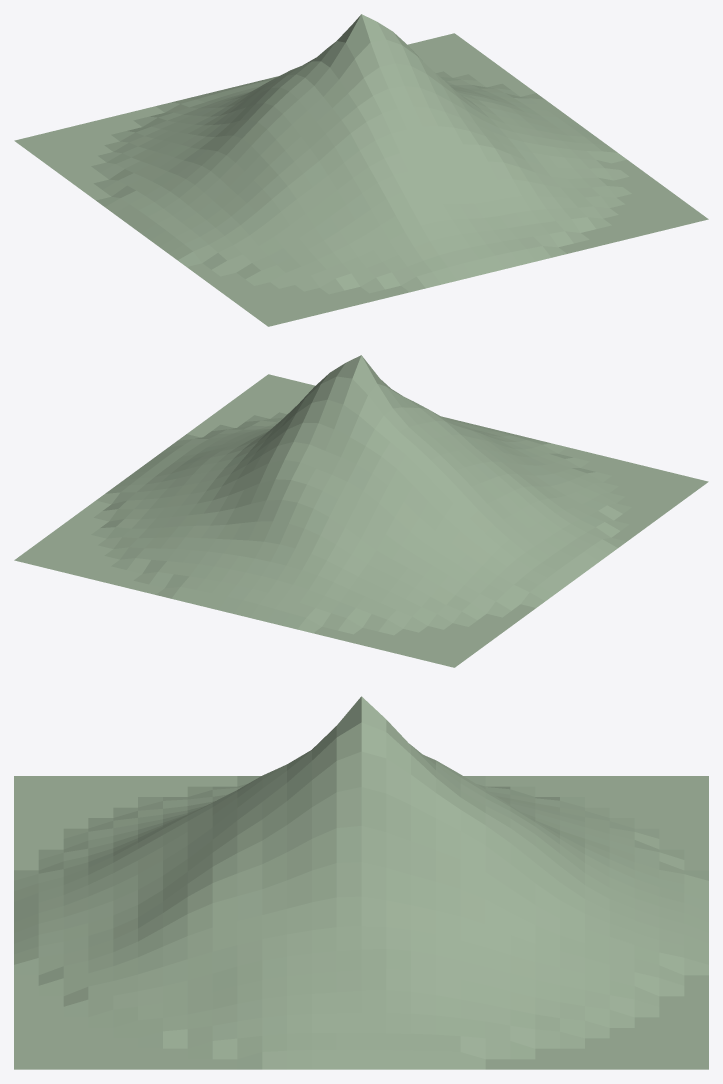
Rendered from mountain.glb.
3 views of the same model, one above another, from view 1: azimuth 30°, elevation 25°; view 2: azimuth 150°, elevation 25°; view 3: azimuth 270°, elevation 25° (orthographic). The views are drawn at different scales.
Visible parts, largest first — view 1: Mountain; view 2: Mountain; view 3: Mountain.
Boxes of the visible parts, <box> form: Mountain: <box>14,14,708,326</box>; Mountain: <box>14,355,708,667</box>; Mountain: <box>14,696,708,1069</box>.
Bounding box in the file's own units: 200 × 72 × 200.
